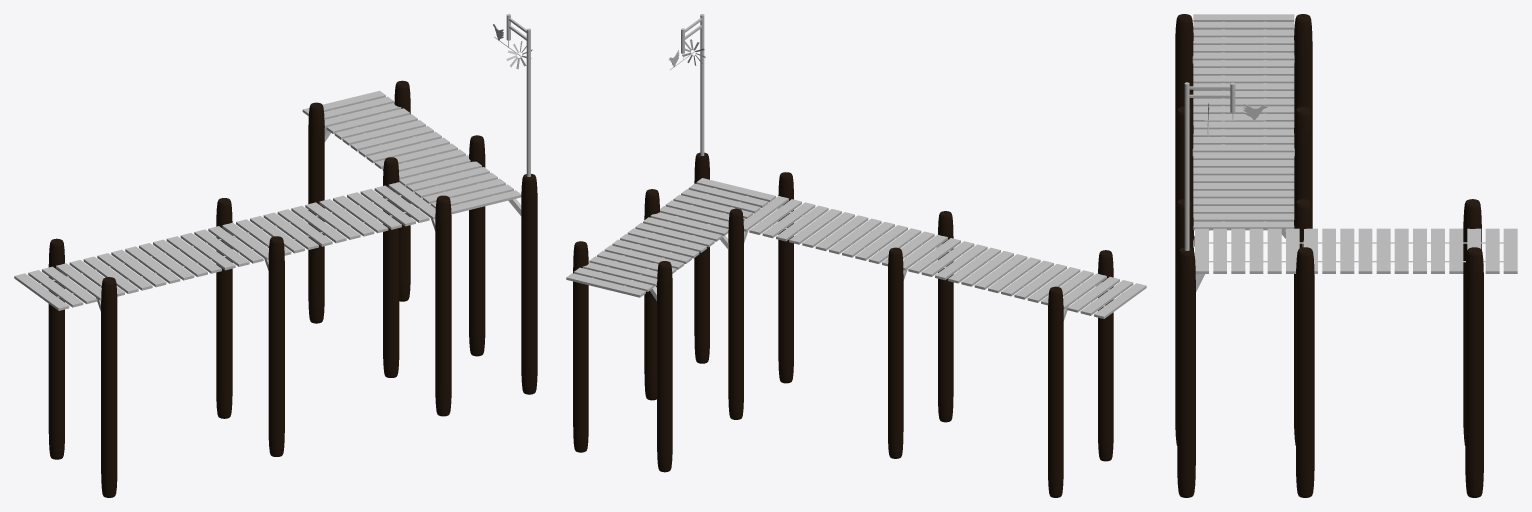
The model's file is Pier.fbx.
3 views of the same model, side by side, from view 1: azimuth 30°, elevation 25°; view 2: azimuth 150°, elevation 25°; view 3: azimuth 270°, elevation 25° (orthographic). The views are drawn at different scales.
Parts seen in each view (by area): view 1: 立方体.000, 立方体.001, 立方体.002; view 2: 立方体.000, 立方体.001, 立方体.002; view 3: 立方体.001, 立方体.000, 立方体.002.
Part boxes in pixels (left/top/right/bottom): 立方体.000: left=48, top=80, right=537, bottom=497; 立方体.001: left=14, top=90, right=521, bottom=311; 立方体.002: left=506, top=14, right=530, bottom=176; 立方体.000: left=573, top=152, right=1113, bottom=497; 立方体.001: left=566, top=178, right=1146, bottom=320; 立方体.002: left=681, top=14, right=704, bottom=155; 立方体.001: left=1192, top=14, right=1517, bottom=291; 立方体.000: left=1175, top=14, right=1483, bottom=497; 立方体.002: left=1184, top=82, right=1235, bottom=250.
Bounding box in the file's own units: 2028 × 1462 × 1103.
